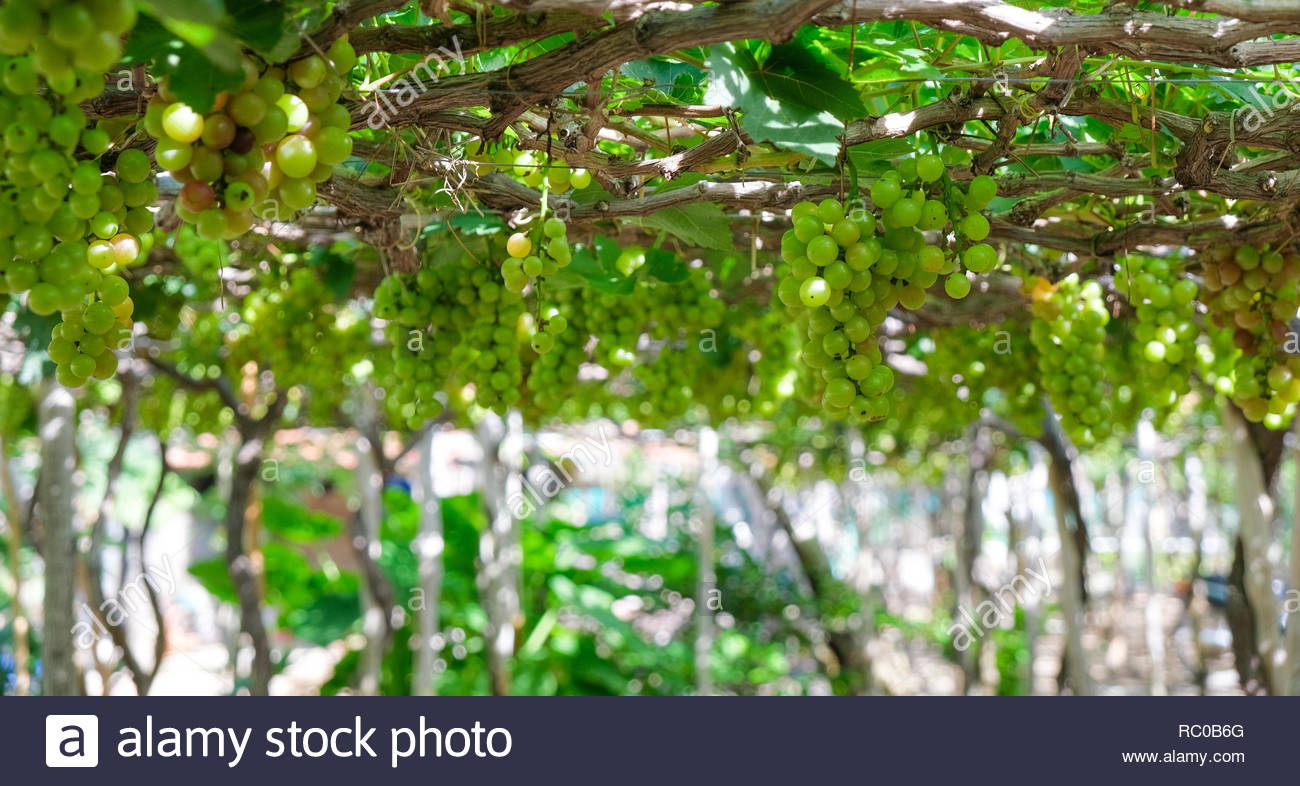grapes: (18, 16, 170, 392), (526, 233, 747, 432), (983, 260, 1223, 436), (773, 193, 915, 434), (151, 76, 356, 241), (377, 240, 501, 441), (887, 140, 1018, 310), (240, 269, 395, 402)
